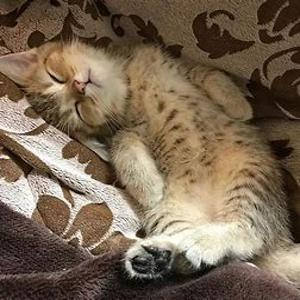cat: (12, 40, 127, 139)
